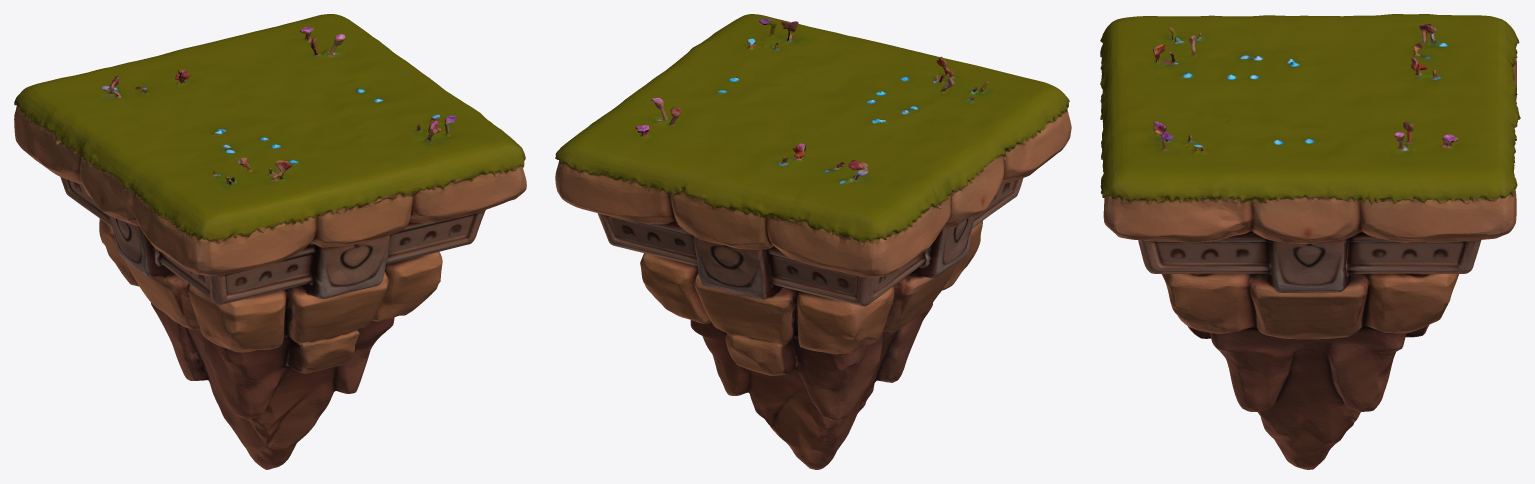
File: platform_long.glb
The picture shows the model from 3 angles, left to right: view 1: azimuth 30°, elevation 25°; view 2: azimuth 150°, elevation 25°; view 3: azimuth 270°, elevation 25°; orthographic projection. The views are drawn at different scales.
Parts seen in each view (by area): view 1: tmpdapyuir9.ply; view 2: tmpdapyuir9.ply; view 3: tmpdapyuir9.ply.
Boxes of the visible parts, x1,y1,x2,y2 form: tmpdapyuir9.ply: [14, 14, 526, 469]; tmpdapyuir9.ply: [555, 14, 1071, 469]; tmpdapyuir9.ply: [1100, 14, 1520, 469].
Bounding box in the file's own units: 1.92 × 1.99 × 1.92.
Materials: 1 (1 with a texture image).
